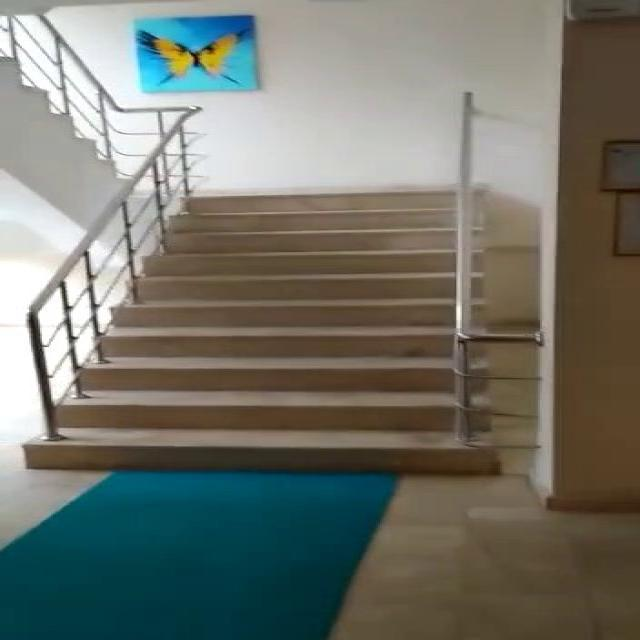stairs: (23, 184, 510, 474)
